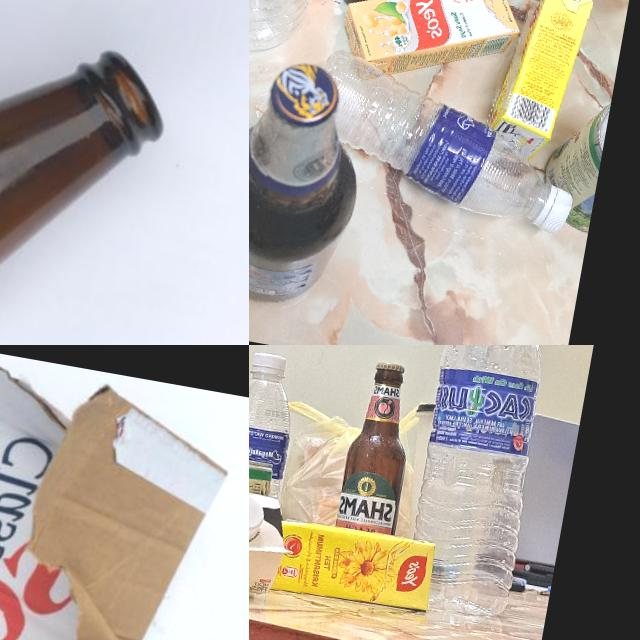caixinha: (333, 0, 529, 105), (485, 0, 597, 166), (268, 514, 440, 616), (249, 463, 301, 608)
garrafa de vidro: (0, 3, 173, 345), (249, 50, 376, 313), (336, 358, 424, 535)
garrafa plástica: (303, 48, 563, 224), (398, 345, 561, 622), (249, 369, 300, 497)
lata: (536, 88, 612, 232), (249, 449, 274, 495)
papelão: (0, 345, 246, 640)
tampa plástica: (536, 186, 576, 237), (249, 491, 268, 542), (250, 352, 286, 376)
